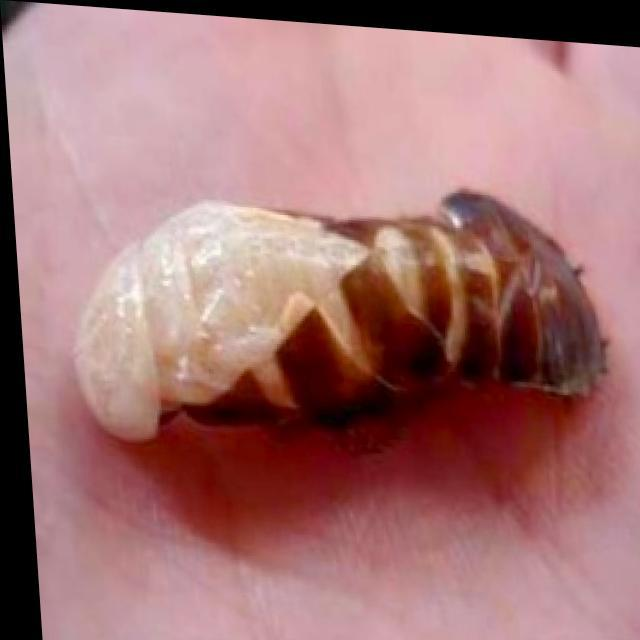cockroach: (69, 184, 613, 447)
